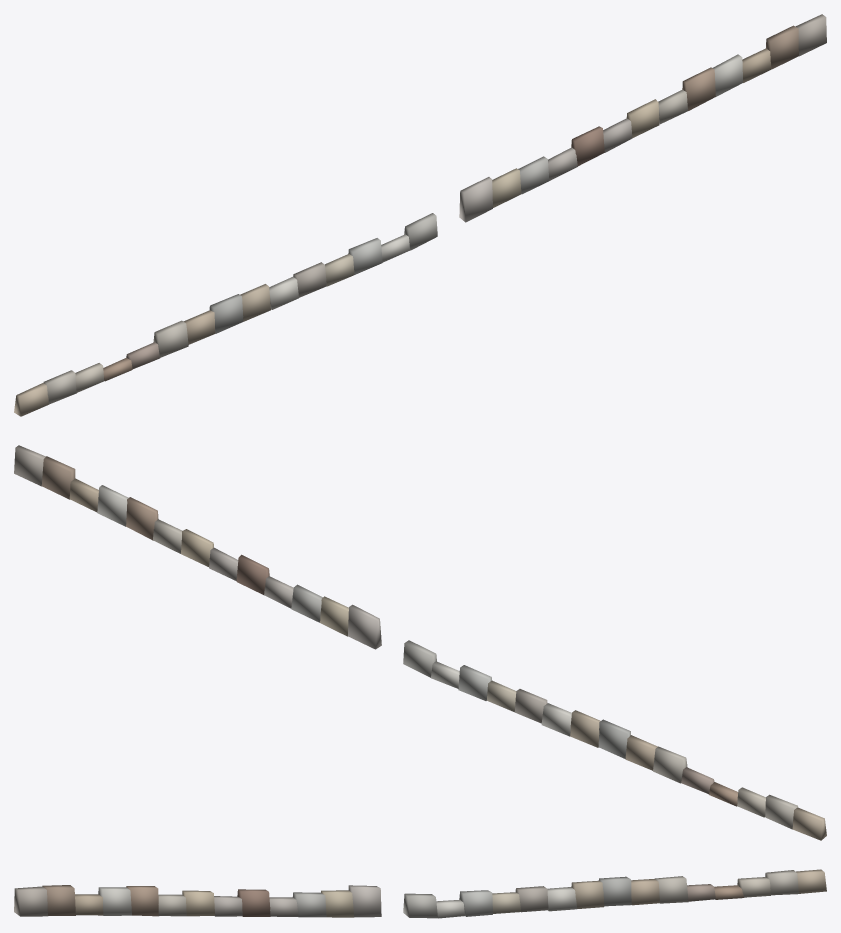
The model's file is farm_-28_-31_far.glb.
3 renders of one model, top to bottom at view 1: azimuth 90°, elevation 25°; view 2: azimuth 210°, elevation 25°; view 3: azimuth 270°, elevation 25°, orthographic.
Visible parts, largest first — view 1: geometry_0; view 2: geometry_0; view 3: geometry_0.
Part boxes in pixels (box(x1,y1,x2,y2)): geometry_0: box(14, 14, 826, 416); geometry_0: box(14, 445, 826, 840); geometry_0: box(14, 869, 826, 918).
Size of the model in its own units: 23.39 by 10.65 by 39.31.
